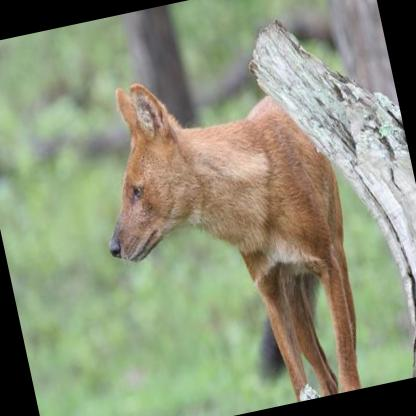dhole: (71, 39, 379, 416)
